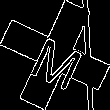M_NE: (24, 22, 86, 88)
